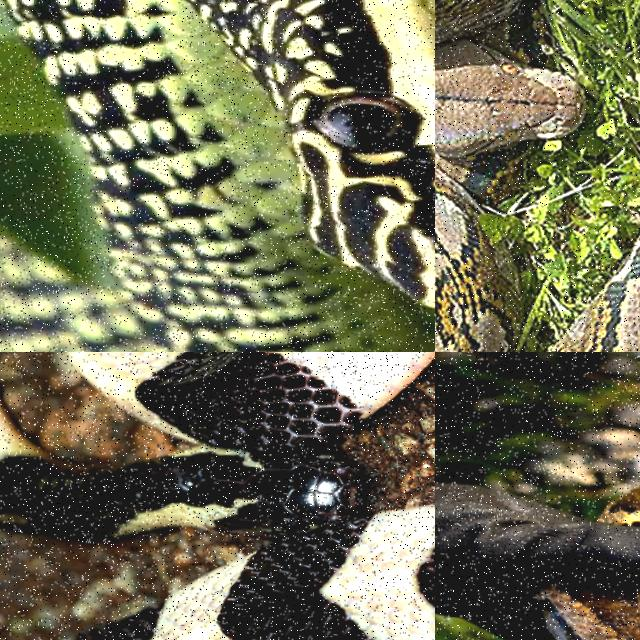Bungarus fasciatus: (0, 352, 434, 639)
Chrysopelea ornata: (0, 0, 434, 351)
Malayopython reticulatus: (435, 0, 586, 351)
Python bivittatus: (539, 583, 639, 639)
snake: (0, 0, 434, 351), (0, 352, 434, 639), (435, 0, 586, 351), (539, 583, 639, 639)
